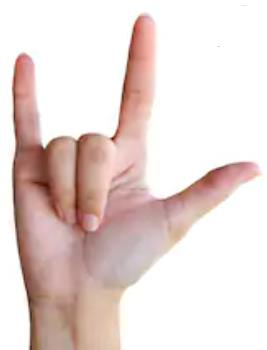back: (11, 9, 263, 299)
